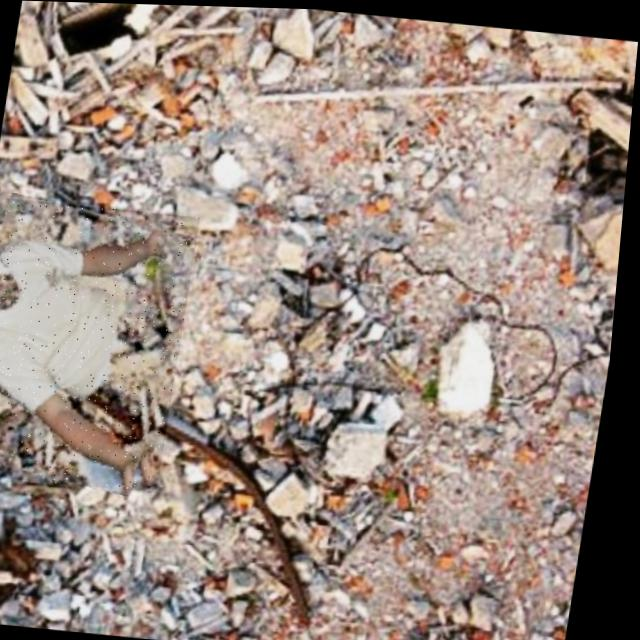Person in Rubble: (0, 195, 204, 491)
